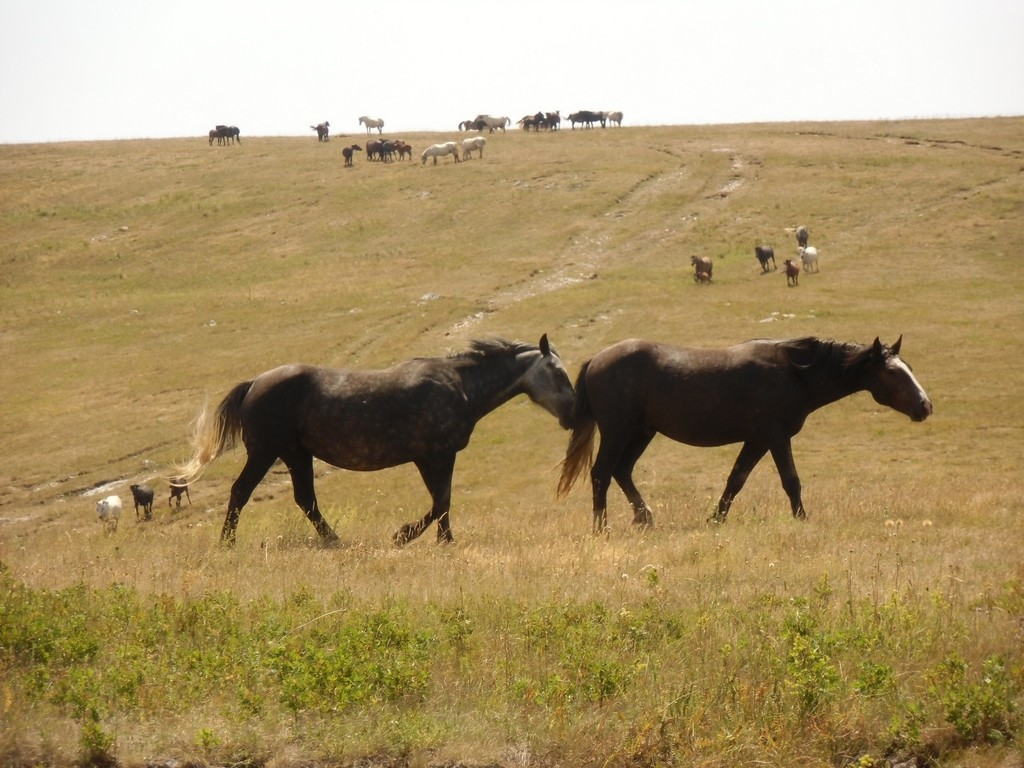horse: (421, 143, 460, 167), (689, 250, 715, 284), (337, 139, 362, 170), (755, 243, 777, 273)
